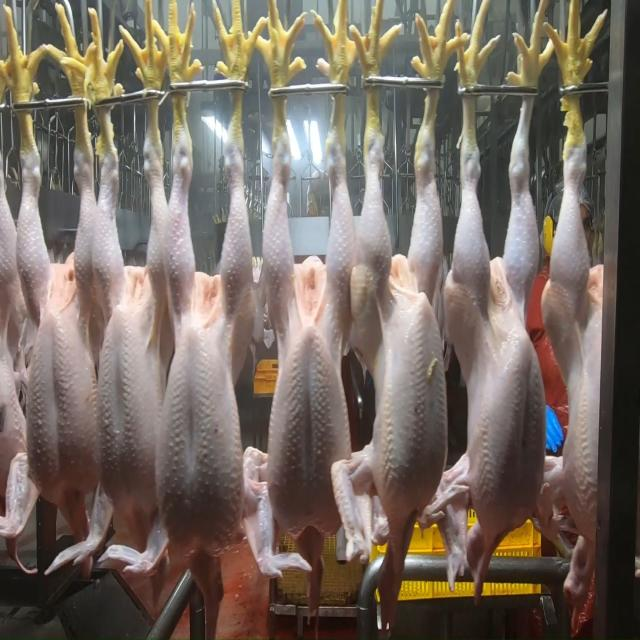chicken: (155, 135, 256, 560), (262, 127, 358, 545), (358, 126, 450, 500), (12, 144, 107, 506), (460, 113, 537, 530), (88, 123, 165, 530), (550, 144, 608, 535)
